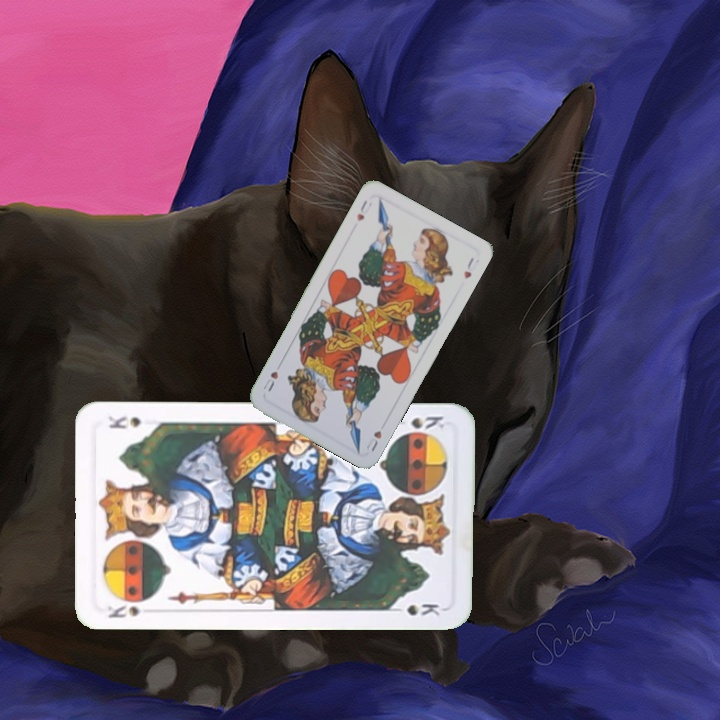HU: (353, 196, 375, 224), (362, 427, 384, 454)
SK: (407, 412, 447, 432), (103, 601, 142, 621)
